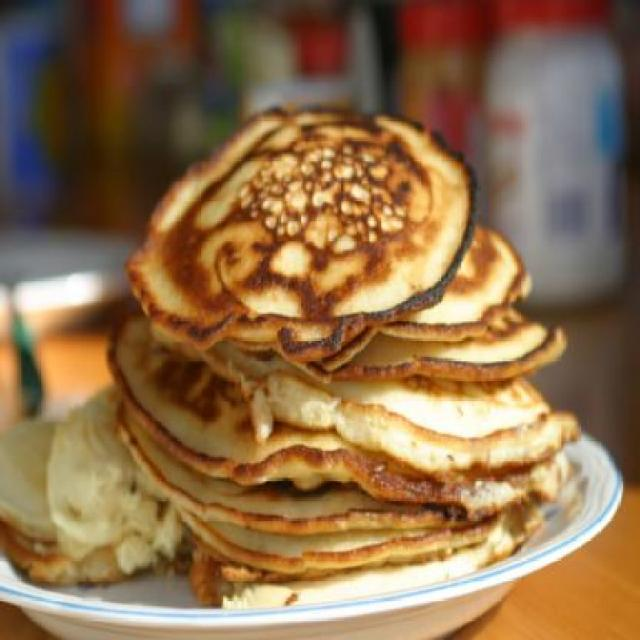Pancake: (106, 218, 580, 592), (123, 98, 474, 351), (0, 377, 169, 585)
